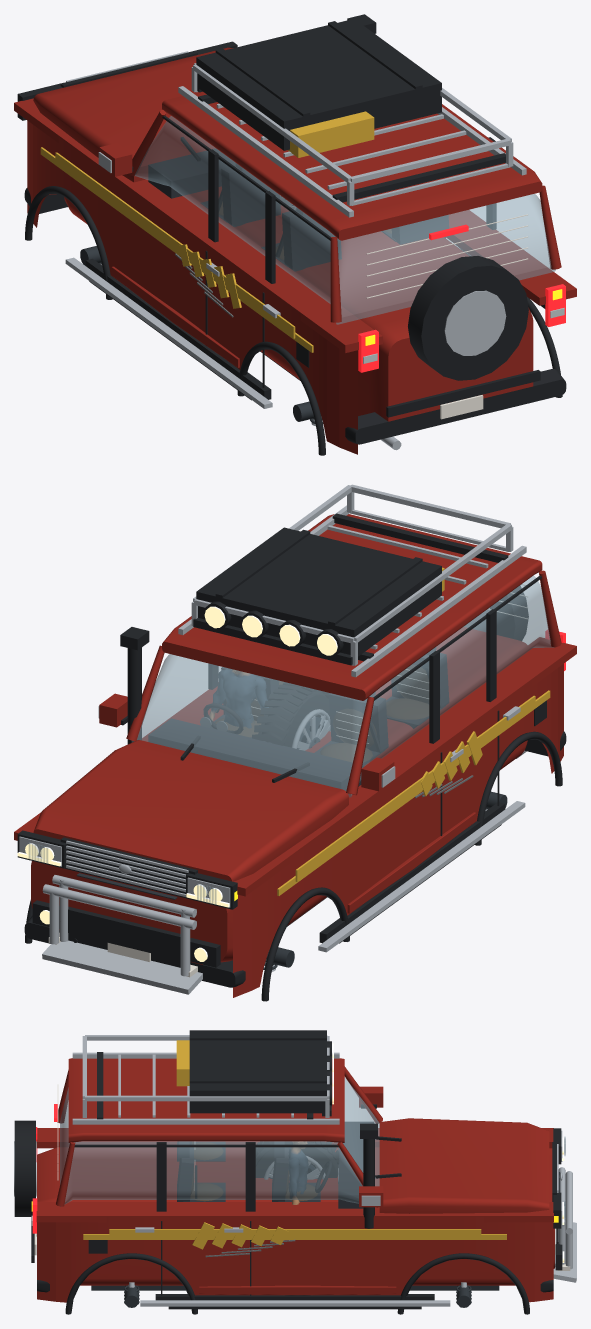
Rendered from dragon-cruiser.glb.
3 views of the same model, one above another, from view 1: azimuth 30°, elevation 25°; view 2: azimuth 150°, elevation 25°; view 3: azimuth 270°, elevation 25° (orthographic). The views are drawn at different scales.
Visible parts, largest first — view 1: body_high, body_low, cosmetic_carrier, cosmetic_basket, cosmetic_stripe, cosmetic_trail, cosmetic_summit; view 2: body_high, body_low, cosmetic_carrier, cosmetic_trail (×2), cosmetic_basket, cosmetic_lamps, cosmetic_stripe, wheel_high, cosmetic_summit; view 3: body_high, body_low, cosmetic_carrier, cosmetic_trail (×2), cosmetic_basket, cosmetic_stripe, cosmetic_summit, wheel_high, wheel_low, cosmetic_lamps.
Boxes of the visible parts, x1=… form: body_high: x1=14, y1=14, x2=576, y2=455; body_low: x1=25, y1=52, x2=555, y2=451; cosmetic_carrier: x1=196, y1=19, x2=441, y2=150; cosmetic_basket: x1=191, y1=63, x2=513, y2=205; cosmetic_stripe: x1=55, y1=152, x2=295, y2=338; cosmetic_trail: x1=65, y1=257, x2=272, y2=408; cosmetic_summit: x1=178, y1=244, x2=241, y2=308; body_high: x1=14, y1=505, x2=576, y2=1001; body_low: x1=19, y1=510, x2=562, y2=996; cosmetic_carrier: x1=196, y1=527, x2=441, y2=656; cosmetic_trail (×2): x1=42, y1=801, x2=525, y2=994; cosmetic_basket: x1=191, y1=484, x2=513, y2=665; cosmetic_lamps: x1=193, y1=601, x2=352, y2=665; cosmetic_stripe: x1=295, y1=695, x2=535, y2=881; wheel_high: x1=252, y1=682, x2=329, y2=745; cosmetic_summit: x1=421, y1=731, x2=482, y2=796; body_high: x1=14, y1=1040, x2=570, y2=1314; body_low: x1=14, y1=1054, x2=569, y2=1312; cosmetic_carrier: x1=189, y1=1030, x2=326, y2=1113; cosmetic_trail (×2): x1=140, y1=1171, x2=576, y2=1306; cosmetic_basket: x1=82, y1=1035, x2=329, y2=1117; cosmetic_stripe: x1=109, y1=1229, x2=481, y2=1238; cosmetic_summit: x1=192, y1=1222, x2=288, y2=1249; wheel_high: x1=256, y1=1141, x2=338, y2=1175; wheel_low: x1=256, y1=1141, x2=337, y2=1177; cosmetic_lamps: x1=322, y1=1041, x2=333, y2=1116.
Size of what is drawn, in the model's own units: 2.43 by 2.3 by 5.34.
